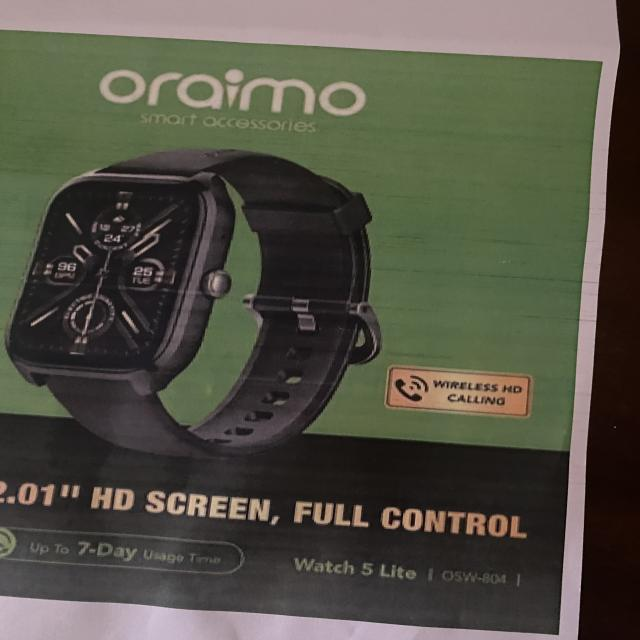Watch 5 Lite OSW-804: (289, 547, 531, 595)
